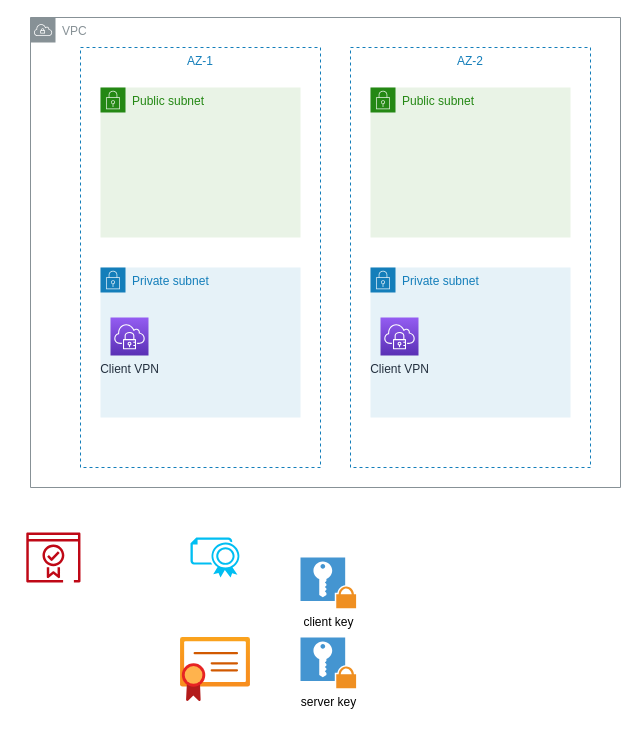
This 639x740 diagram has some shape labels left out. The shapes that lost their labels are listed below. From the top down, each one's centre as x and y in pixels, then its label:
(x=53, y=557): CA Certificate
(x=215, y=557): Client Certificate
(x=215, y=669): Server Certificate
